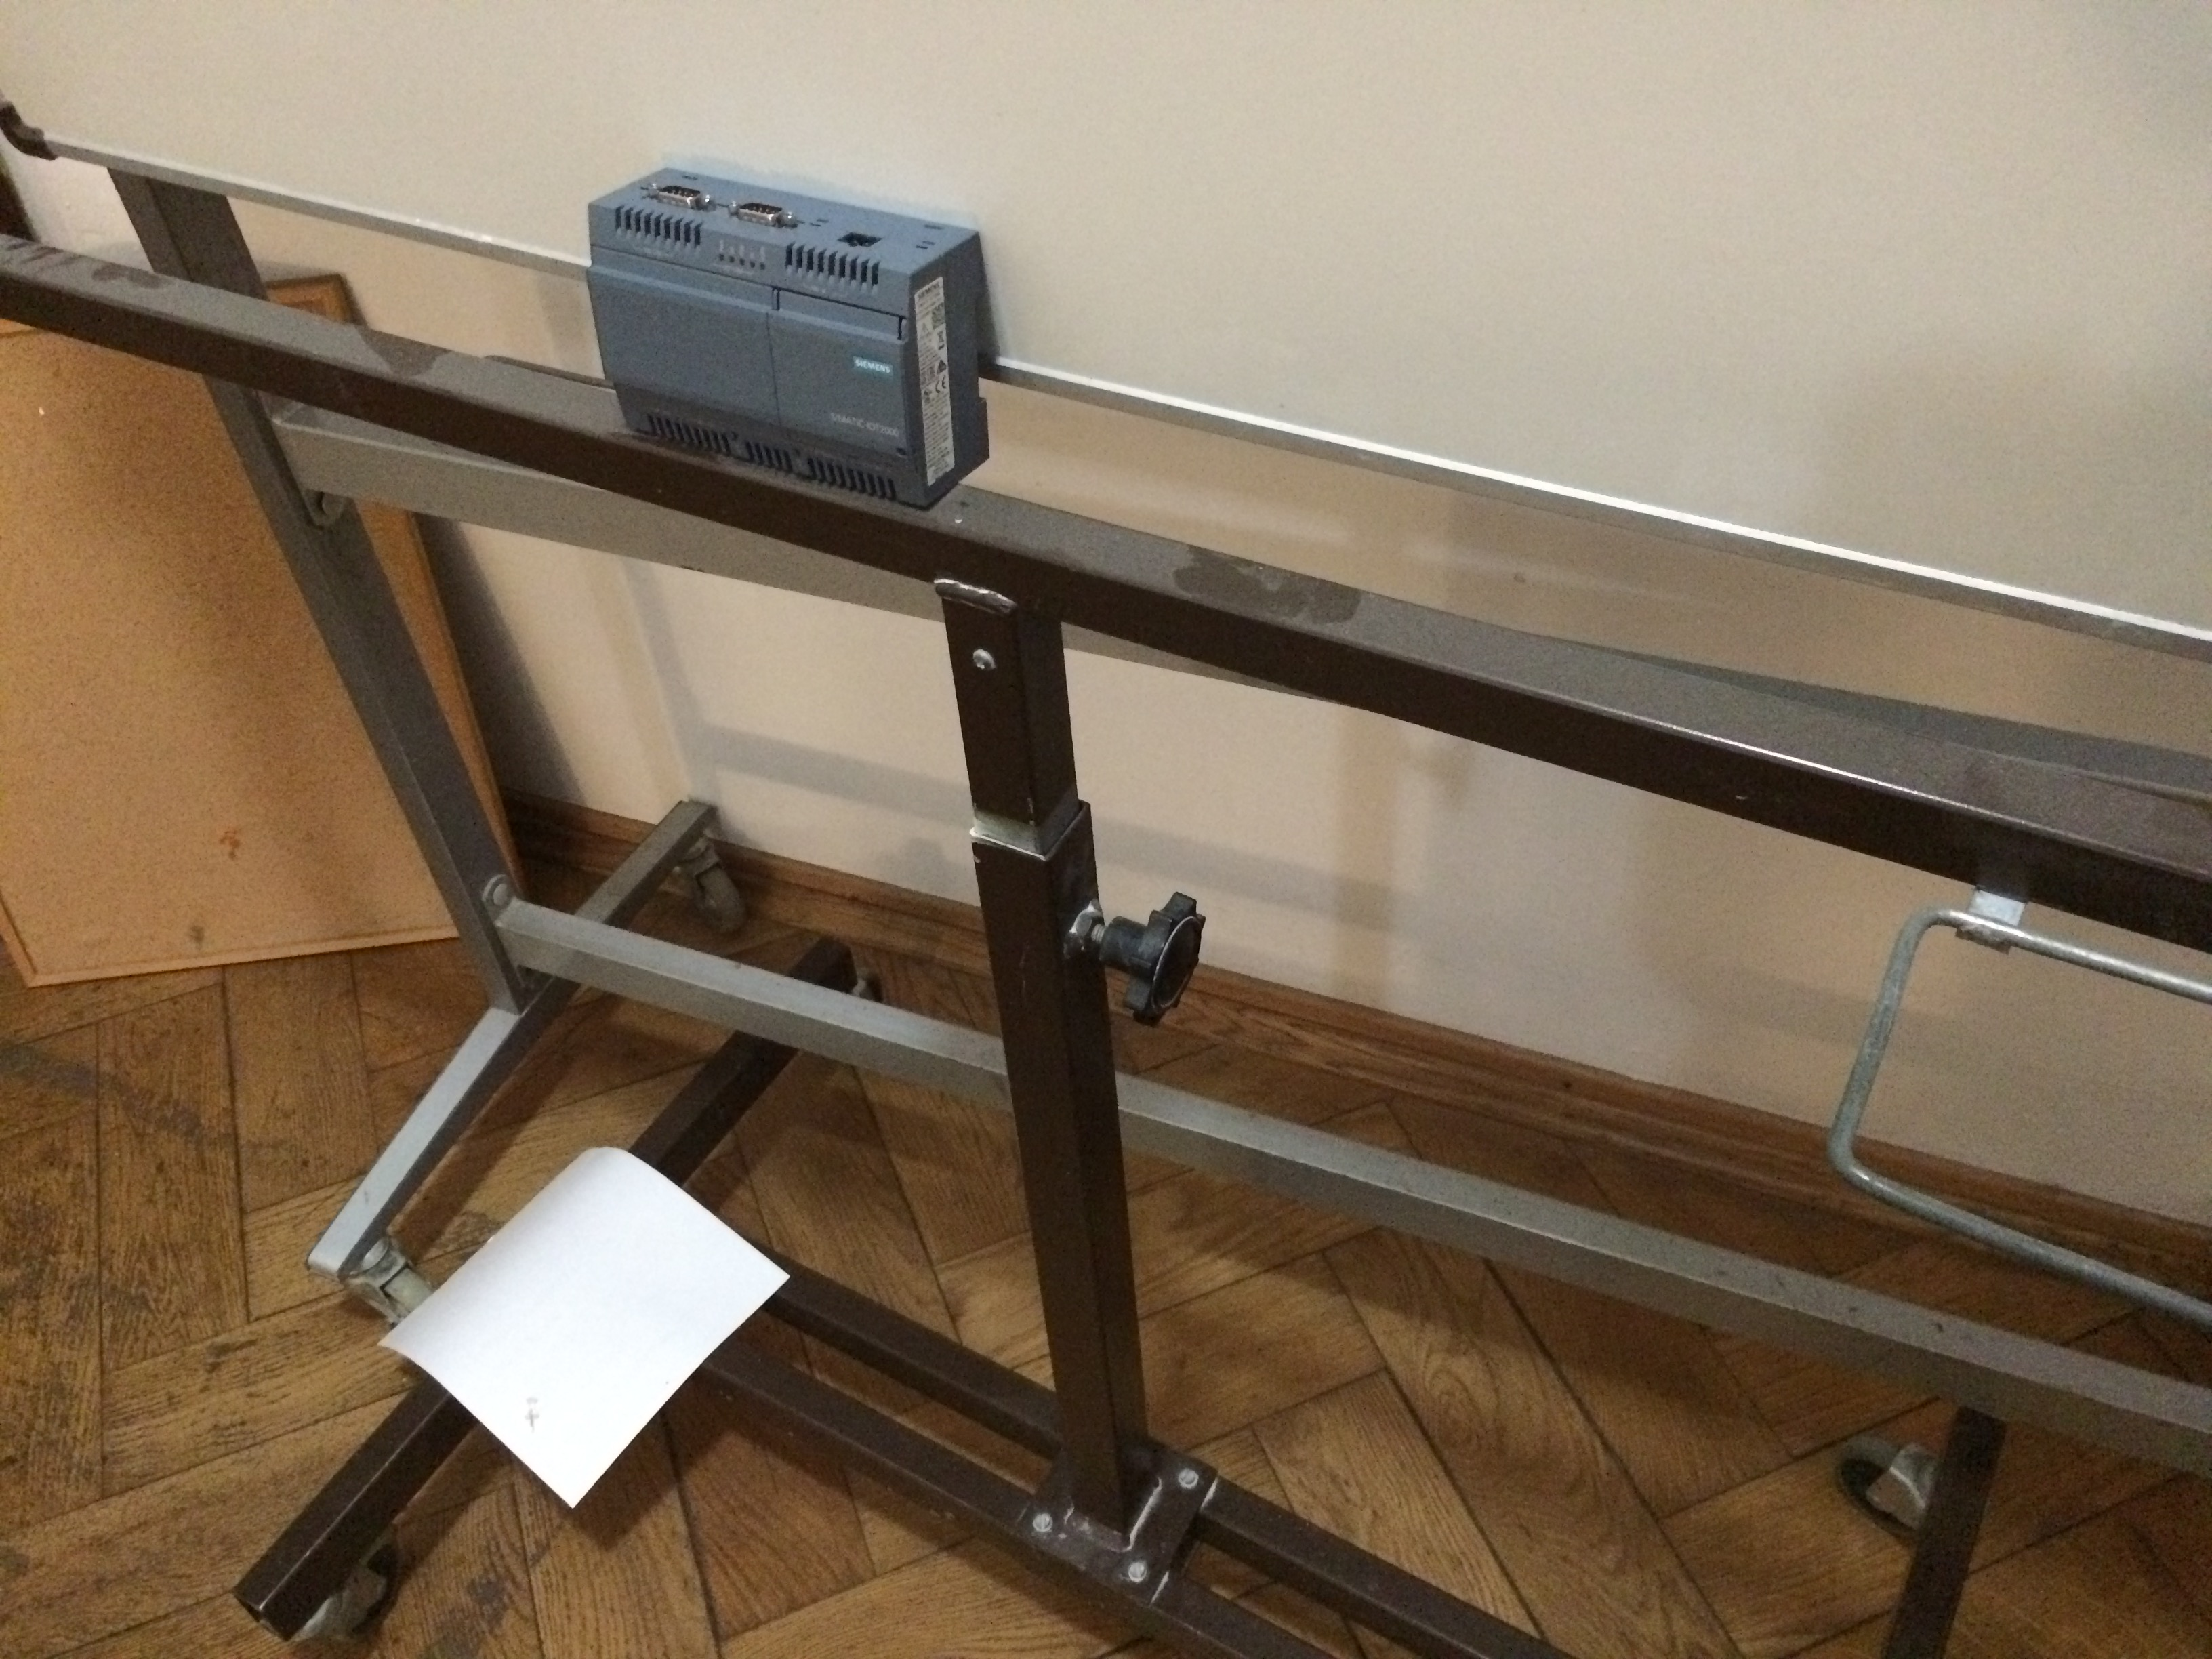iot2000: (582, 164, 993, 516)
